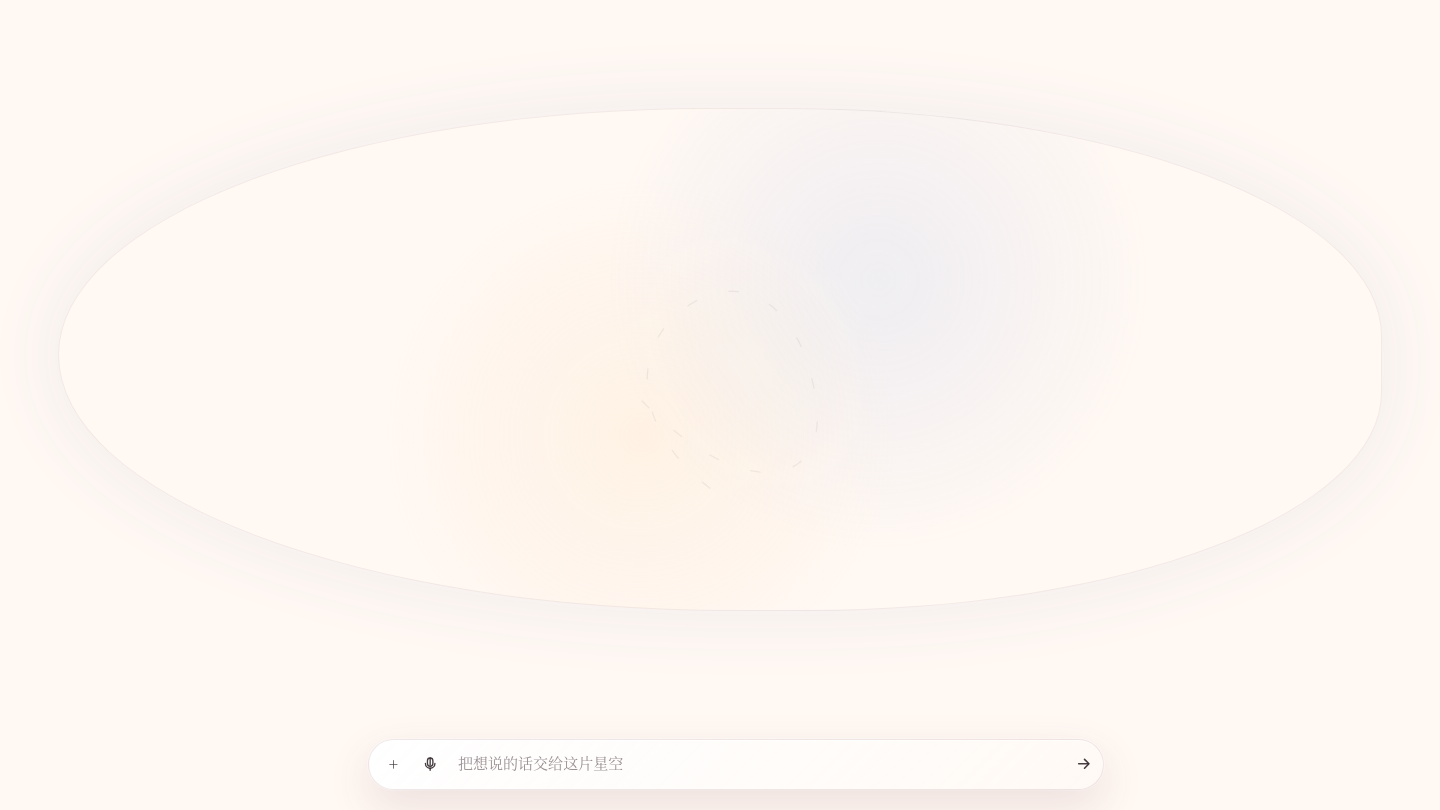
it: StarChat › opens attachment options from the plus button
This screenshot has width=1440, height=810.
Click the button named "添加附件": [394, 764] box [377,748,410,781]
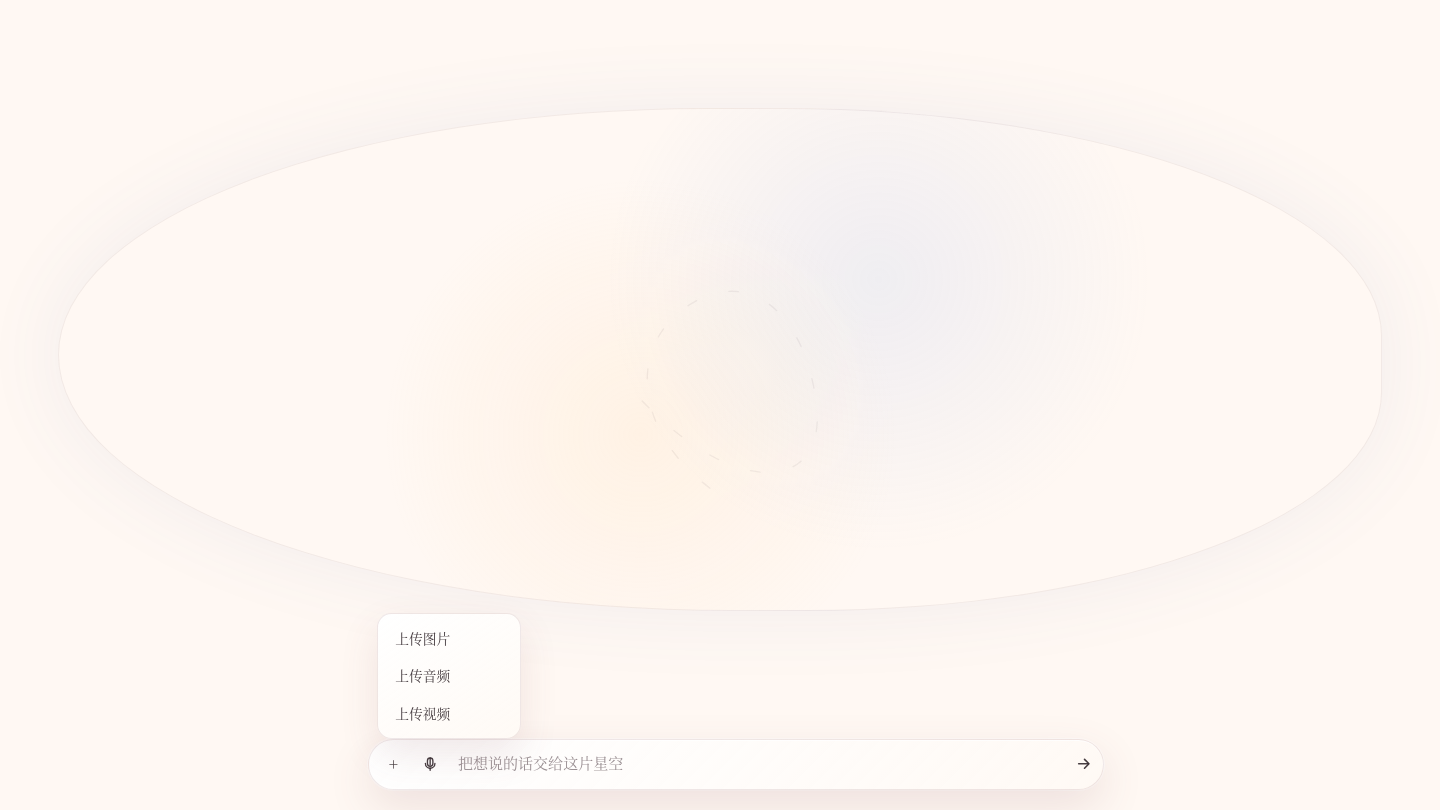
Expected: the menu with class "star-chat__attachment-popover" is shown, [377,613,521,739]
Expected: the menu item with aria-label "上传图片" is shown, [395,628,450,648]
Expected: the menu item with aria-label "上传音频" is shown, [395,665,450,685]
